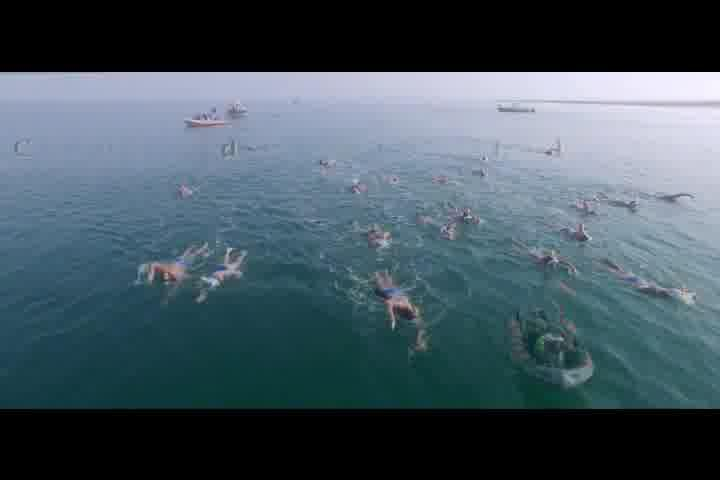human: (369, 272, 432, 351), (144, 237, 214, 300), (192, 252, 252, 308)
